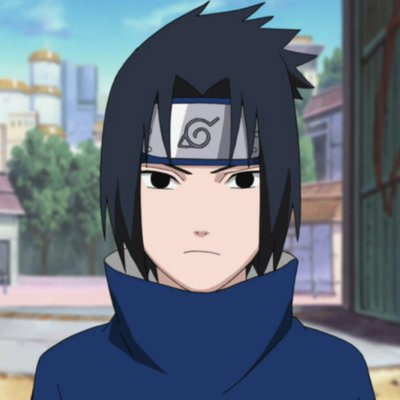sasuke: (133, 91, 268, 294)
